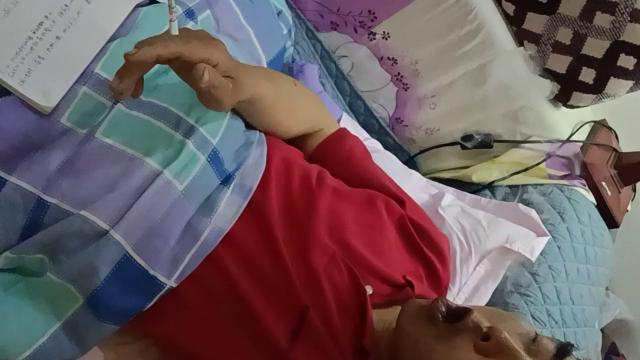Cigarette: (168, 0, 180, 66)
